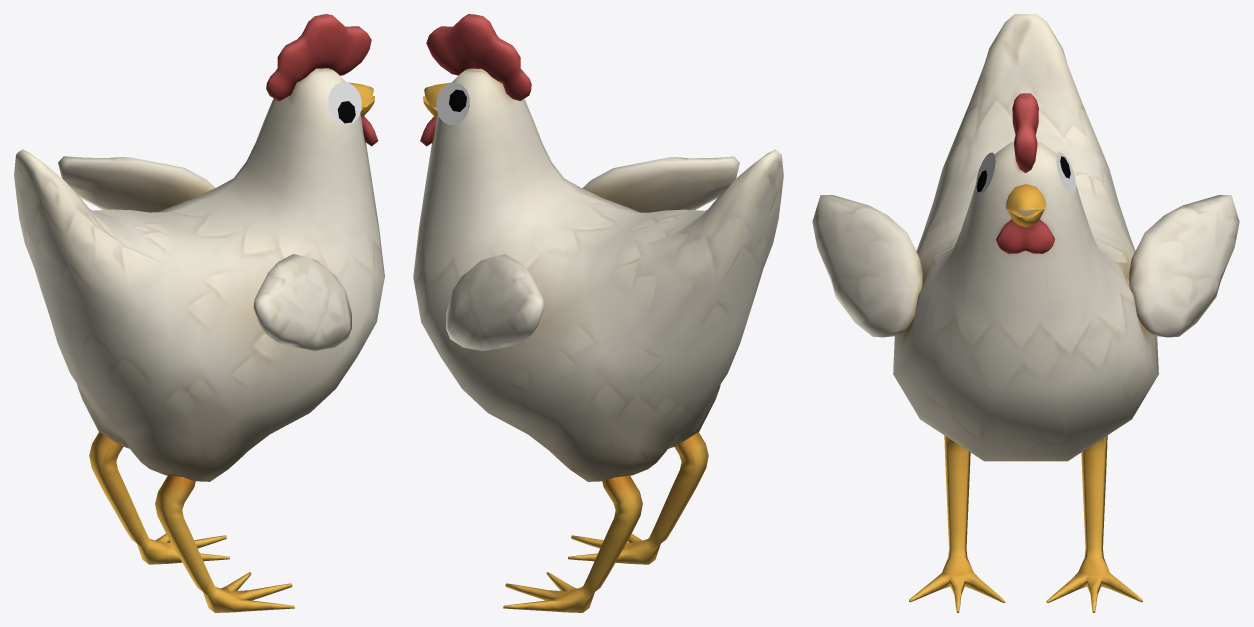
File: chicken_source.glb
3 renders of one model, left to right at view 1: azimuth 30°, elevation 25°; view 2: azimuth 150°, elevation 25°; view 3: azimuth 270°, elevation 25°, orthographic. The views are drawn at different scales.
Parts seen in each view (by area): view 1: Chicken; view 2: Chicken; view 3: Chicken.
Boxes of the visible parts, x1,y1,x2,y2 form: Chicken: (14, 14, 384, 612); Chicken: (413, 14, 783, 612); Chicken: (812, 14, 1239, 612).
Bounding box in the file's own units: 1.96 × 2.84 × 1.99.
Materials: 3 (1 with a texture image).
